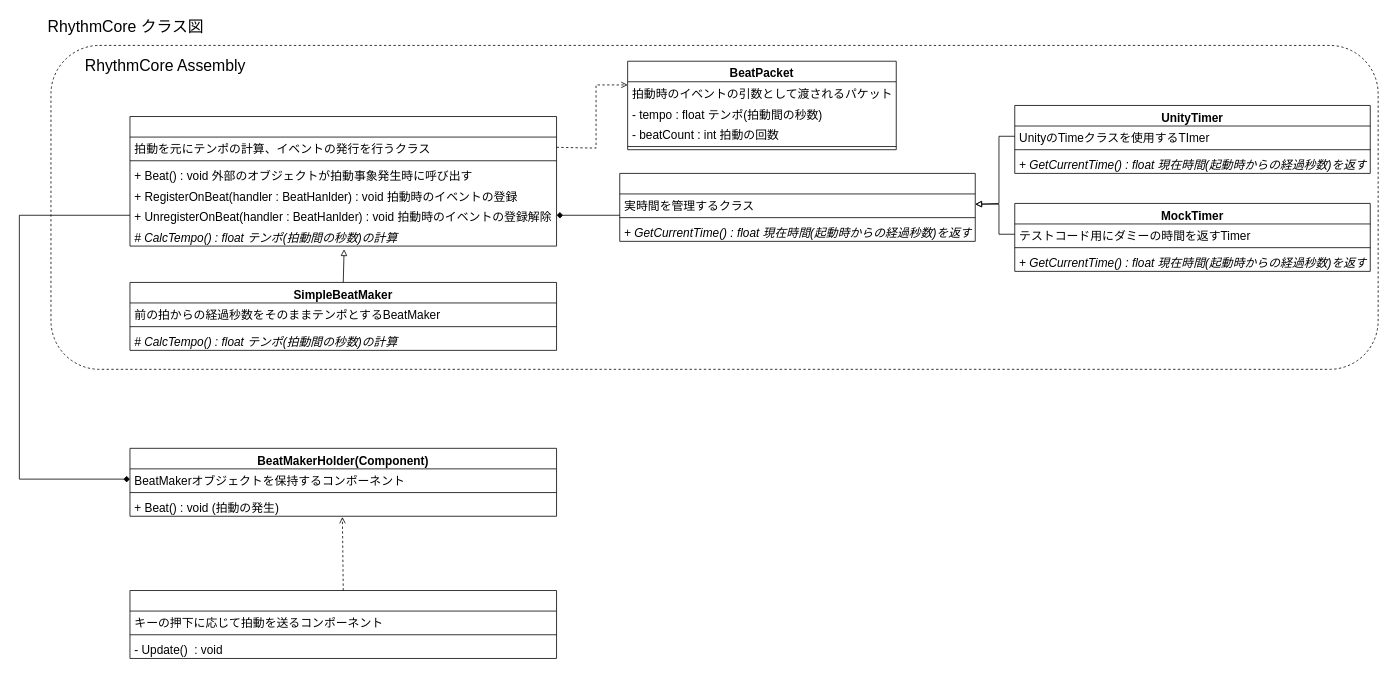
This 1392x674 diagram has some shape labels left out. The shapes that lost their labels are listed below. From the top down, each one's box as (x1, y1, x2, y2) in pixels, then its label:
(129, 116, 557, 246): BeatMaker
(619, 173, 975, 241): ITimer
(129, 590, 557, 658): KeyBeaterTest(Component)
